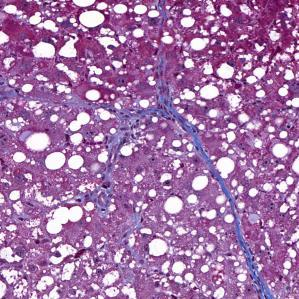fibrosis: (231, 213, 262, 291), (115, 95, 182, 125)
